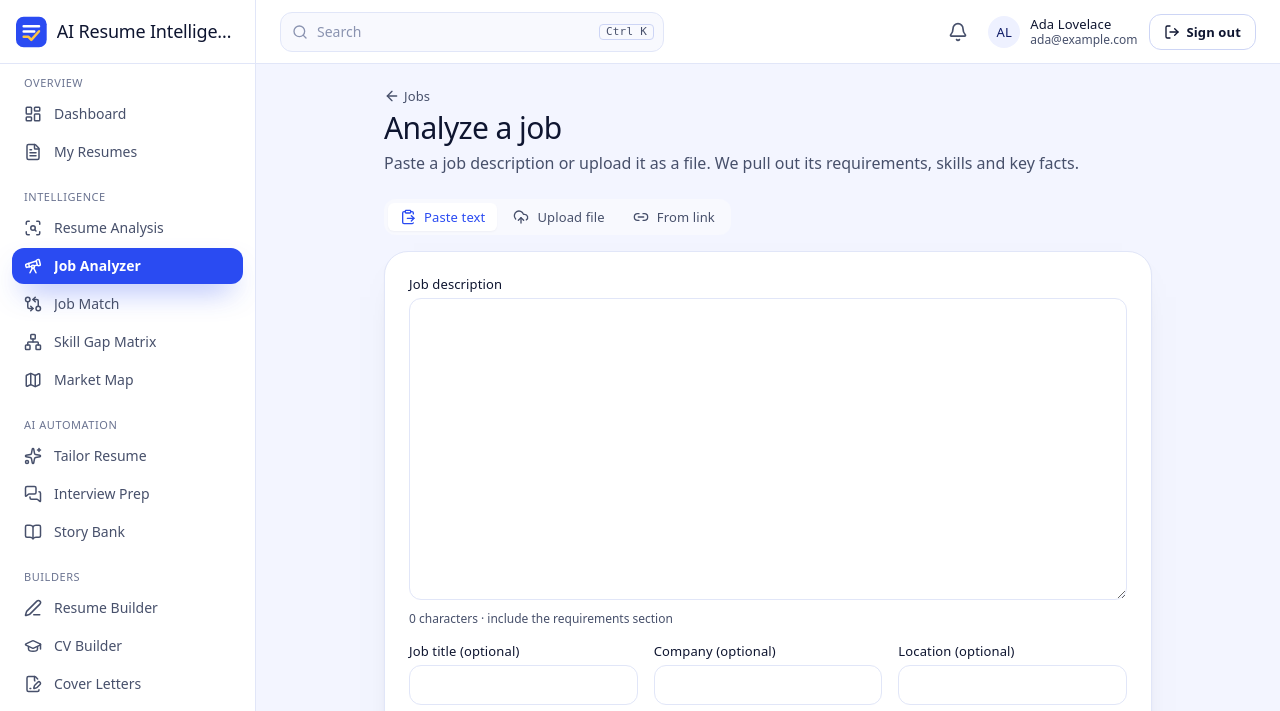
Test: Job Analyzer › falls back to pasting when a link cannot be read
Click the tab "From link" at (674, 217), box [621,203,727,231]
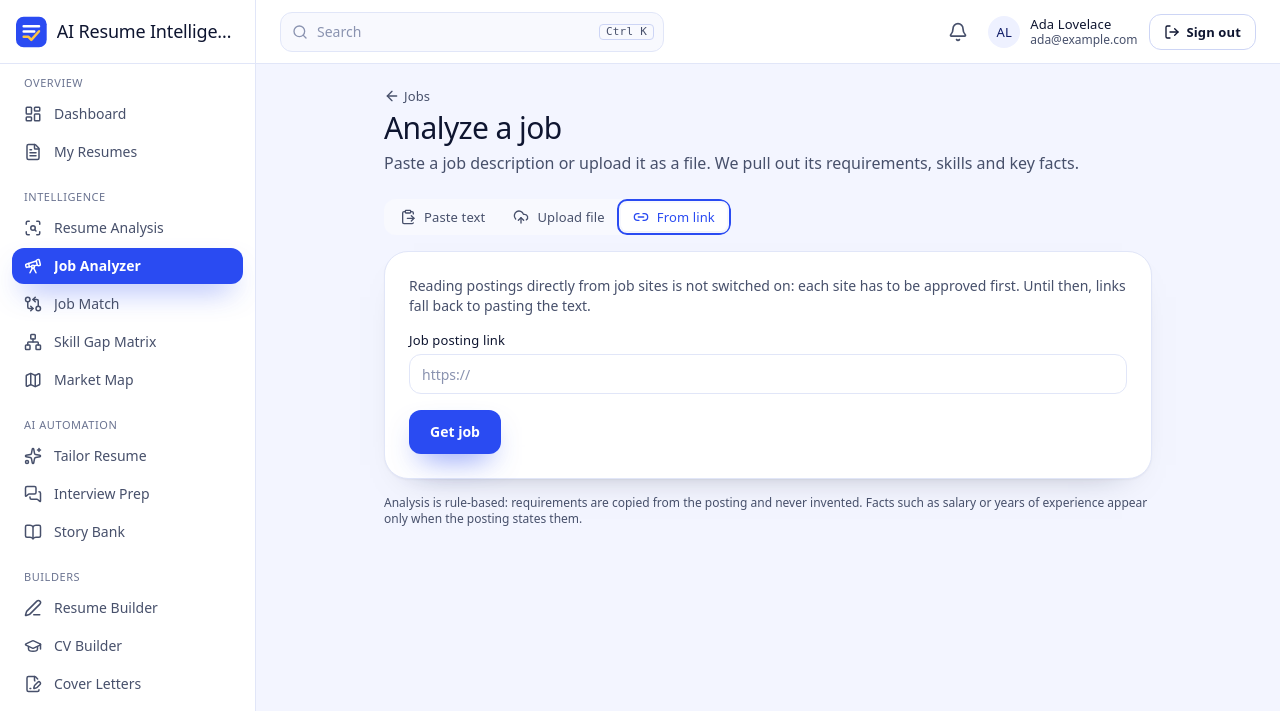
Type "https://jobs.example.com/123" into the field labelled "Job posting link" at (768, 374), box [409,354,1127,394]
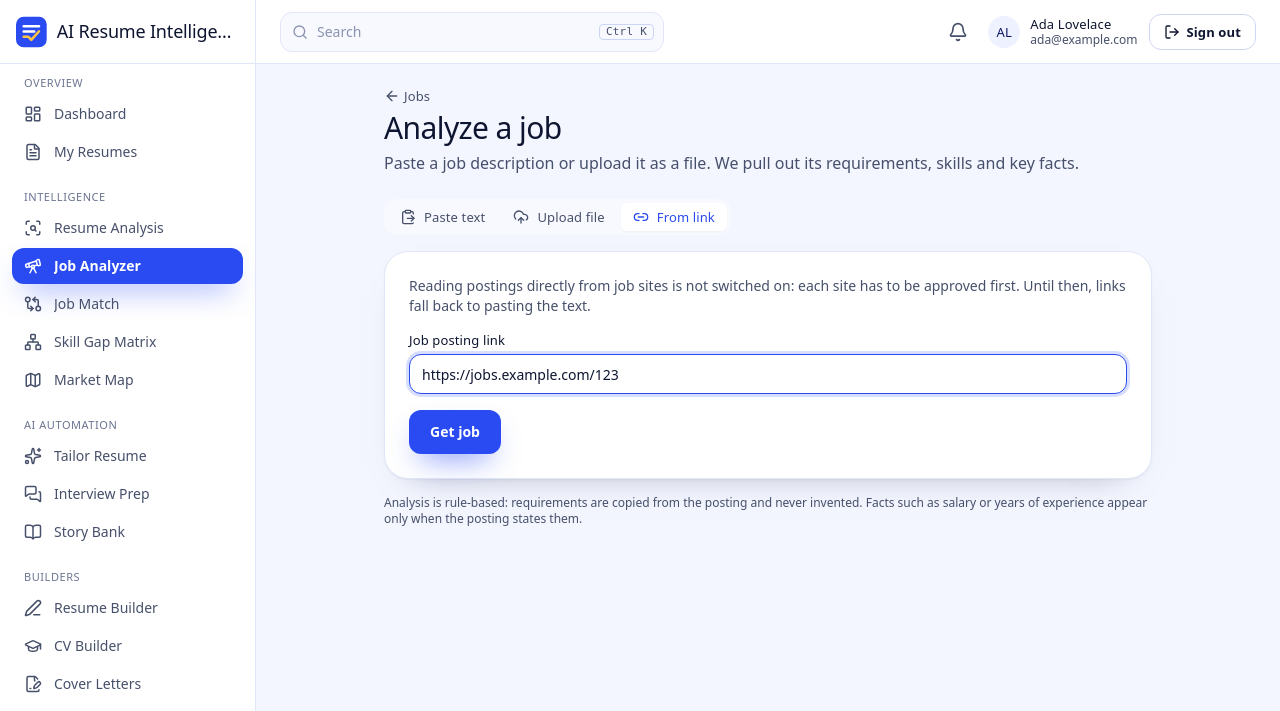
Click the button "Get job" at (455, 432), box [409,410,501,454]
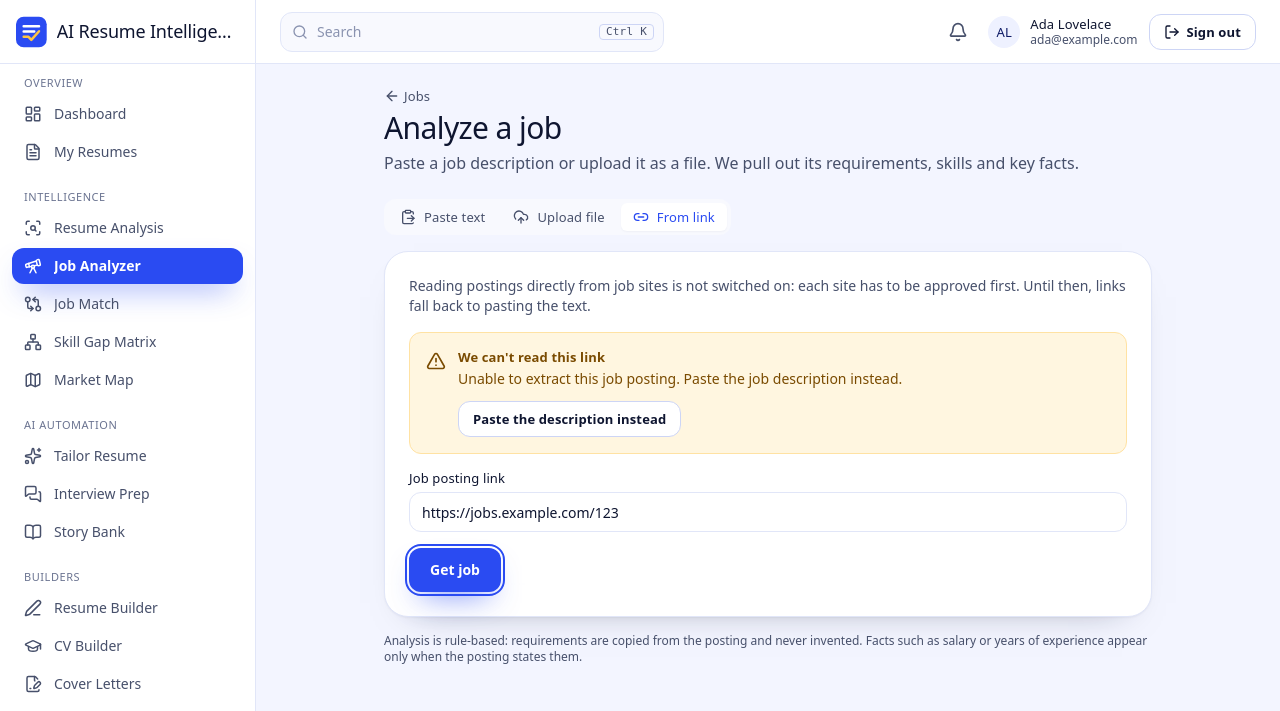
Result: the text "Unable to extract this job posting" is shown at [458,369,902,388]
Click the button "Paste the description instead" at (570, 419), box [458,401,681,437]
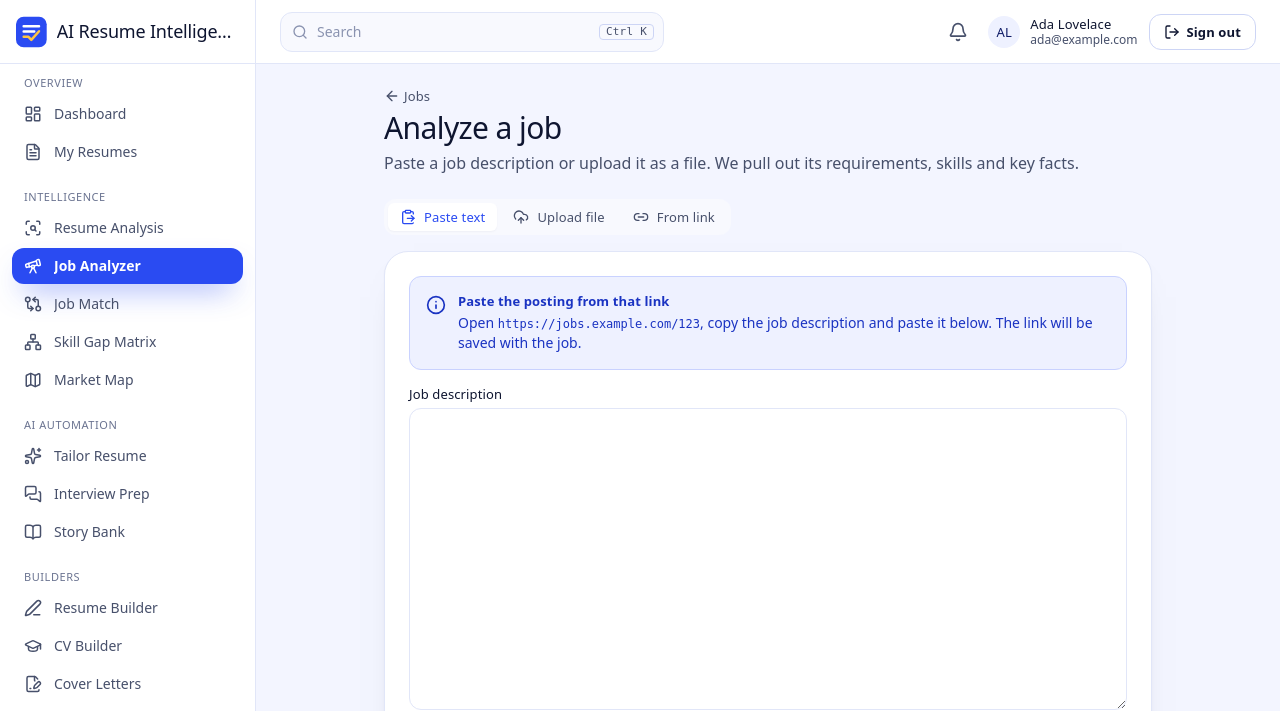
Result: the text "https://jobs.example.com/123" is shown at [498,317,700,331]
